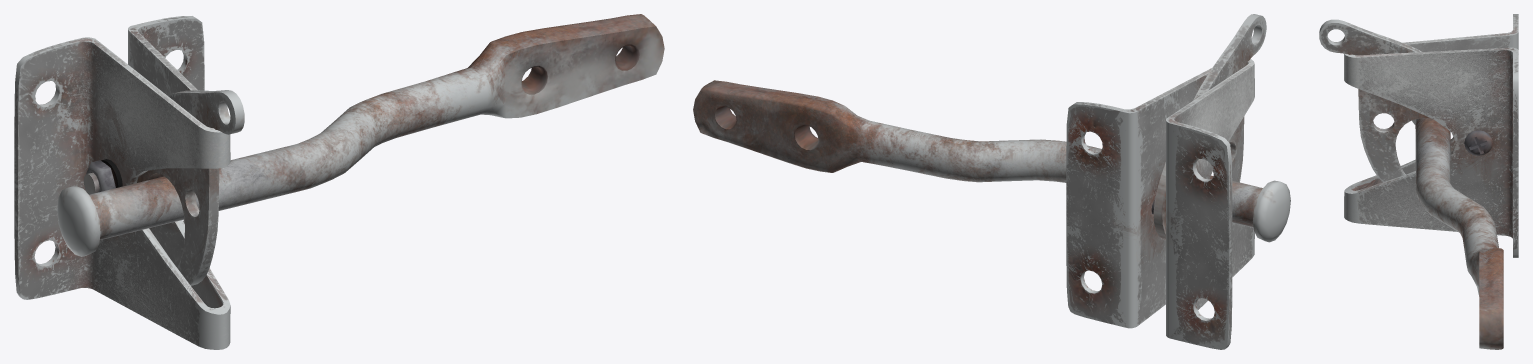
The model's file is gate_latch_01.glb.
The picture shows the model from 3 angles, left to right: view 1: azimuth 30°, elevation 25°; view 2: azimuth 150°, elevation 25°; view 3: azimuth 270°, elevation 25°; orthographic projection. The views are drawn at different scales.
Visible parts, largest first — view 1: gate_latch_01_frame, gate_latch_01_latch, gate_latch_01_hook; view 2: gate_latch_01_frame, gate_latch_01_latch, gate_latch_01_hook; view 3: gate_latch_01_frame, gate_latch_01_latch, gate_latch_01_hook.
Boxes of the visible parts, x1=… form: gate_latch_01_frame: x1=14, y1=16, x2=230, y2=349; gate_latch_01_latch: x1=57, y1=14, x2=664, y2=256; gate_latch_01_hook: x1=137, y1=90, x2=244, y2=285; gate_latch_01_frame: x1=1066, y1=59, x2=1254, y2=349; gate_latch_01_latch: x1=693, y1=80, x2=1290, y2=242; gate_latch_01_hook: x1=1153, y1=14, x2=1266, y2=240; gate_latch_01_frame: x1=1344, y1=14, x2=1518, y2=257; gate_latch_01_latch: x1=1411, y1=118, x2=1503, y2=349; gate_latch_01_hook: x1=1319, y1=19, x2=1430, y2=182.
Size of the model in its own units: 0.2051 by 0.0854 by 0.0747.
Materials: 1 (1 with a texture image).
